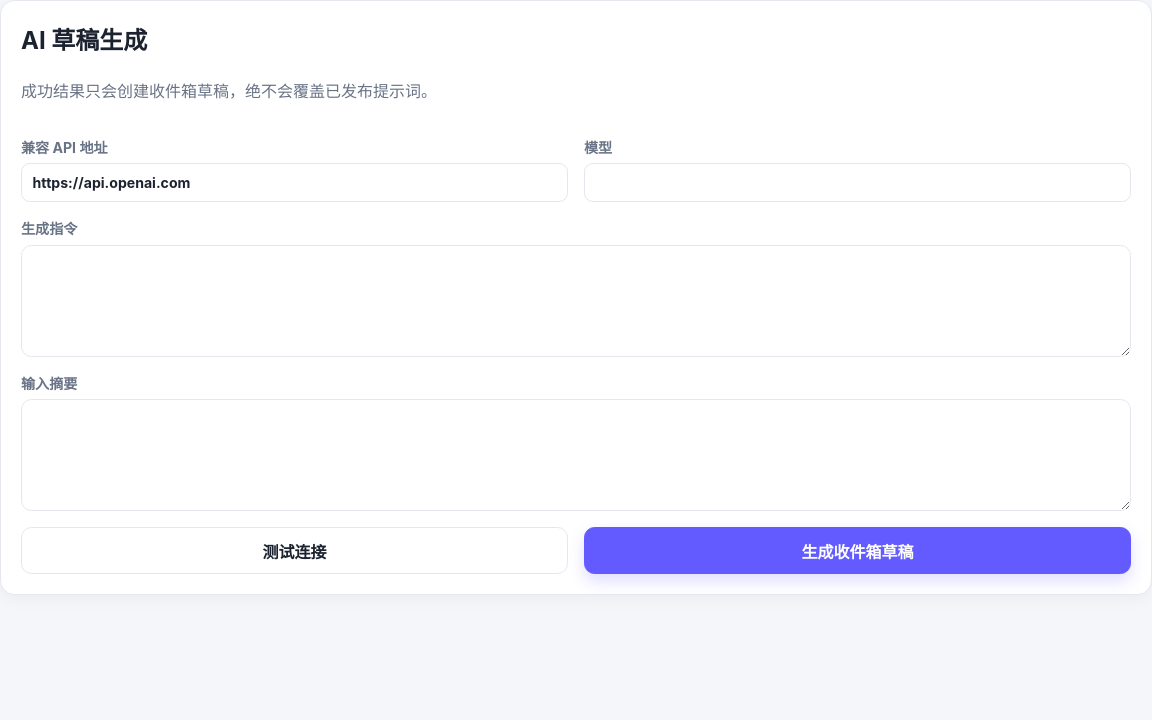
Test case: AiDraftGenerator › sends generation output only to the draft command
In the field labelled "模型": coordinates (858, 183) [584, 163, 1131, 202], type "gpt-5"
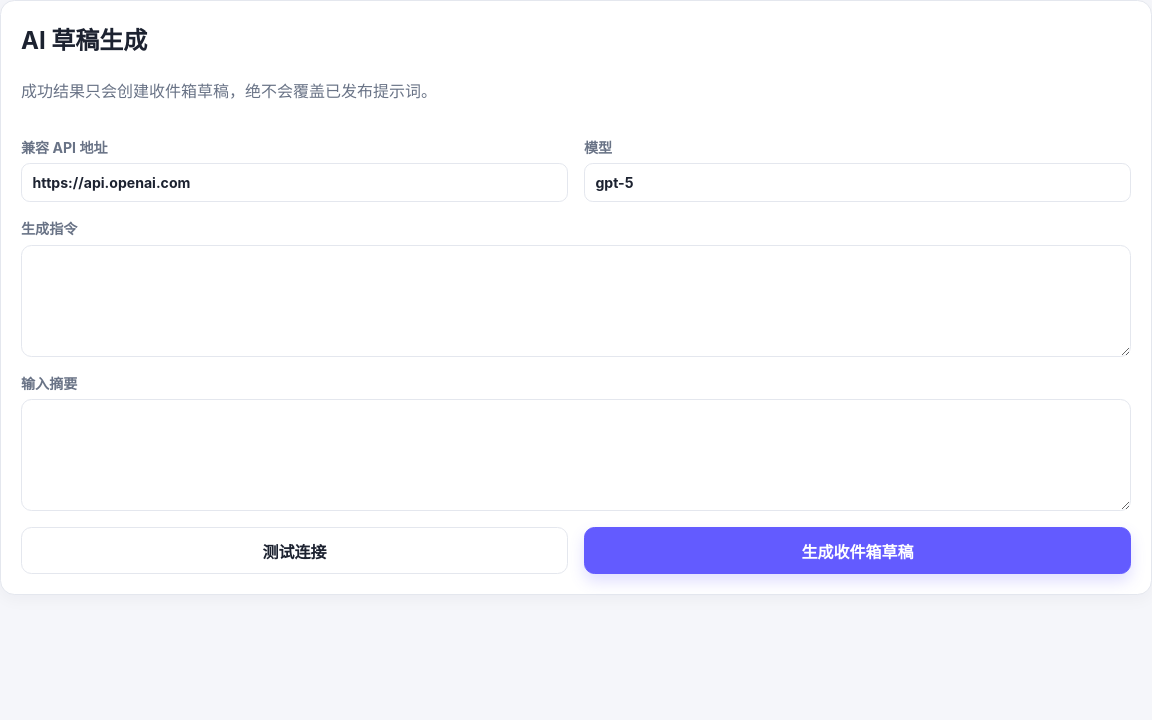
In the text box labelled "生成指令": coordinates (576, 301) [21, 245, 1131, 357], type "优化提示词"
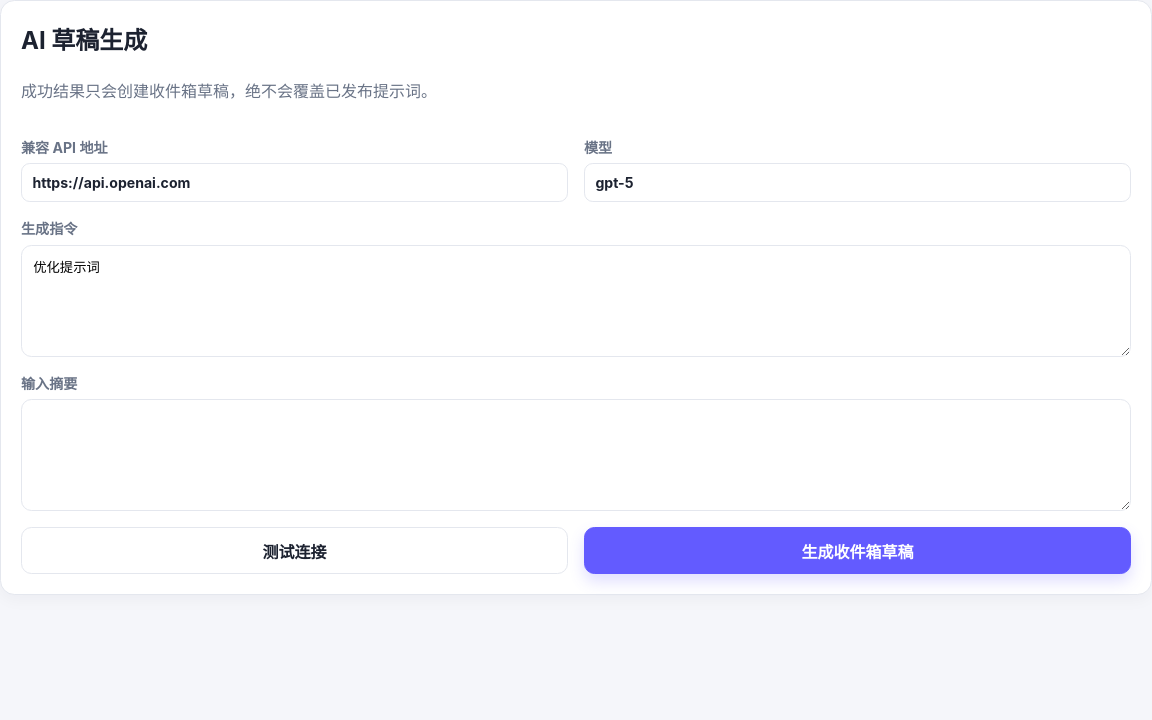
In the text box labelled "输入摘要": coordinates (576, 455) [21, 399, 1131, 511], type "保留结构"
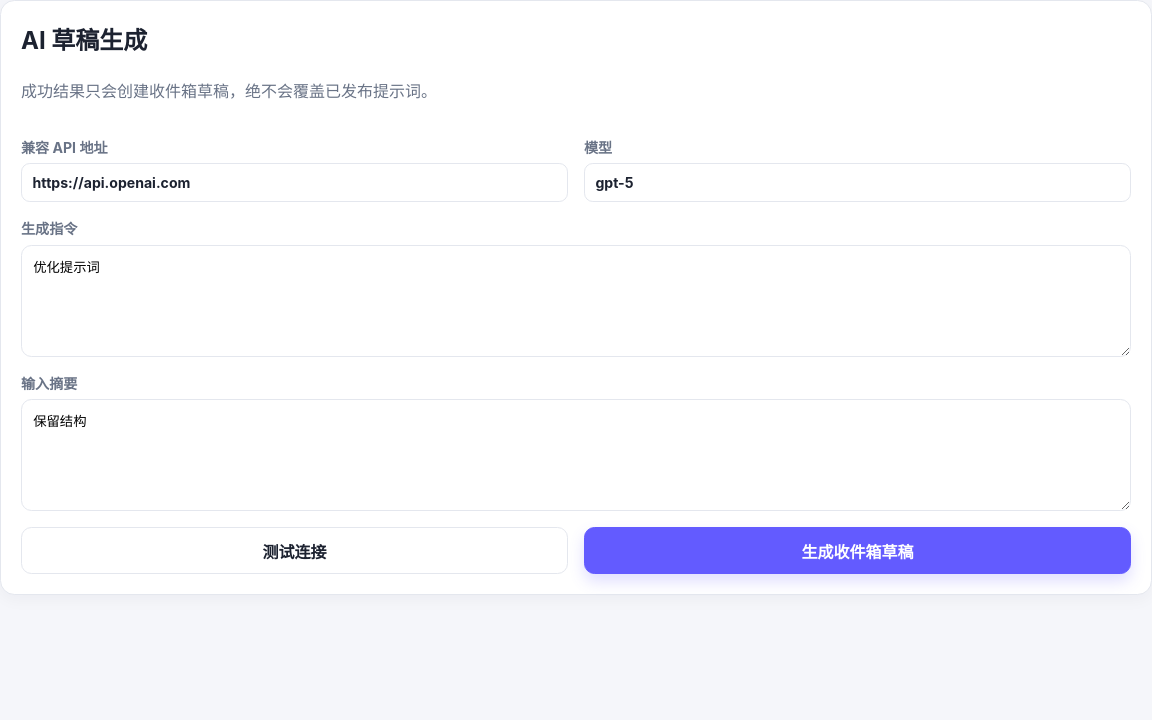
Click the button "生成收件箱草稿": coordinates (858, 550) [584, 527, 1131, 574]
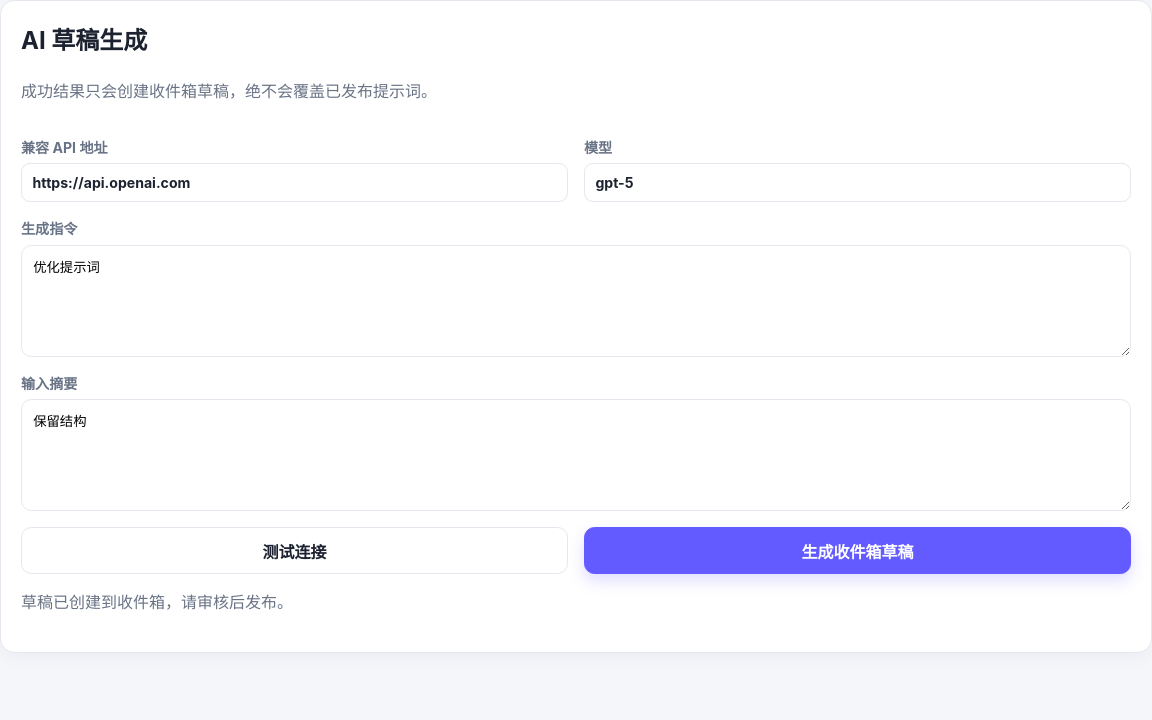
Expected: the message shows "草稿已创建到收件箱", [21, 592, 293, 612]
